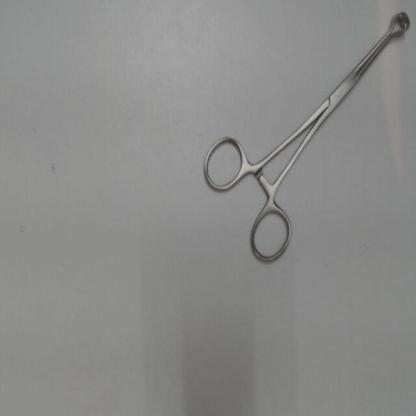Babcock Tissue Forceps: (196, 4, 414, 272)
